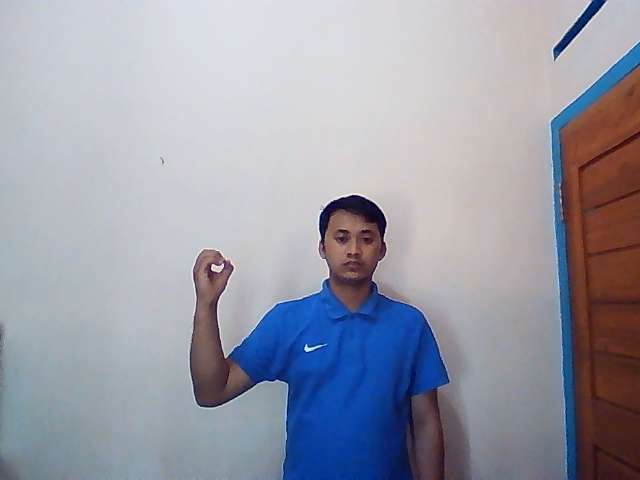O: (191, 247, 235, 302)
